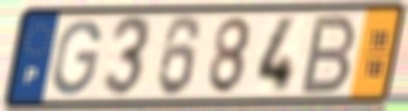3: (101, 13, 153, 101)
4: (253, 13, 300, 96)
6: (155, 12, 202, 100)
8: (207, 13, 254, 97)
B: (297, 11, 360, 97)
G: (50, 17, 104, 98)
